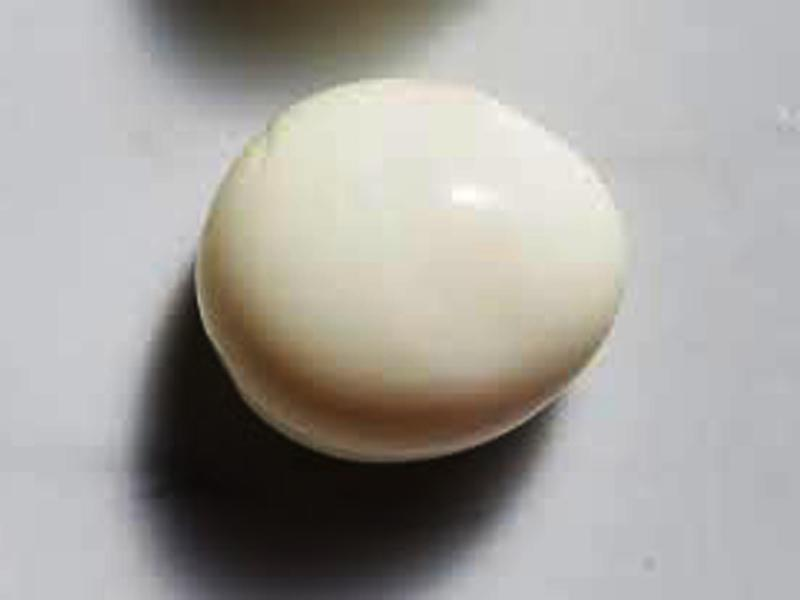Eggs: (193, 79, 622, 462)
